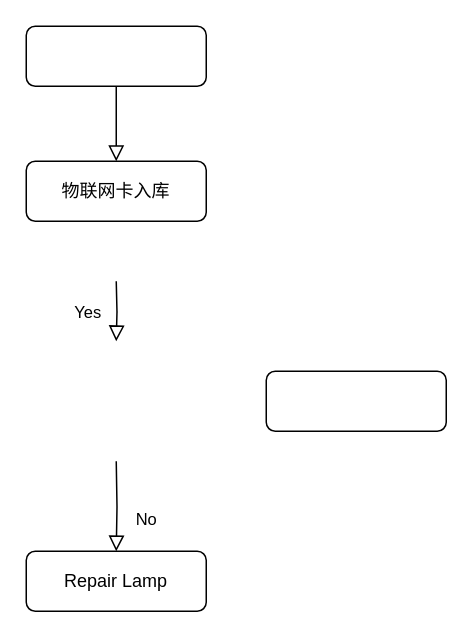
Image size: 473x638. Some labels were removed from this diagram. The centre of each missing label's shape, as x and y in pixels:
"Replace Bulb" goes at point 355,400.
"物联网卡采购" goes at point 115,55.
